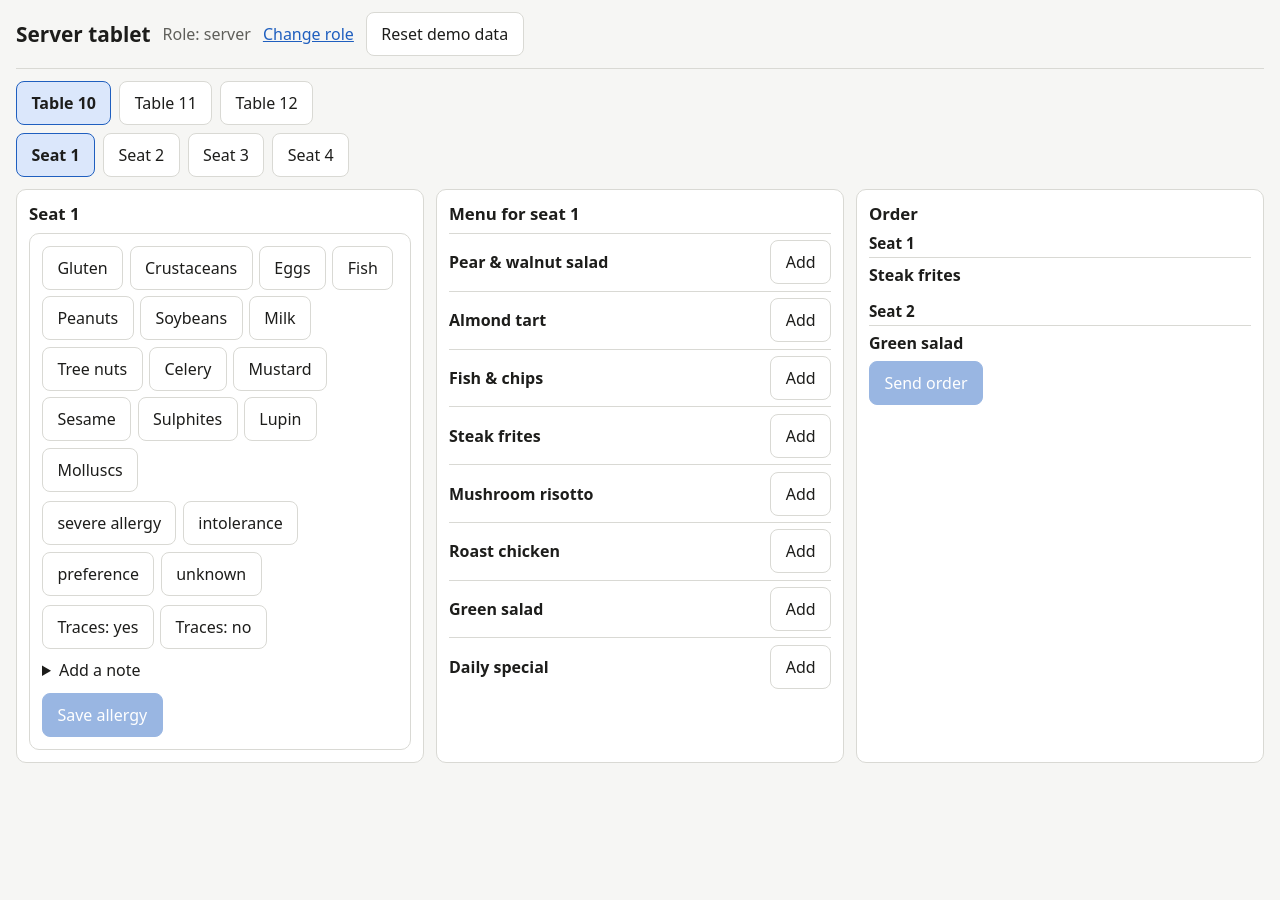
Test case: US1 allergy panel › REQ-01: "Save allergy" is disabled until an allergen, a severity and a traces value are chosen
The image size is (1280, 900).
Click the button "Table 12". click: (267, 103)
box: [220,81,313,125]
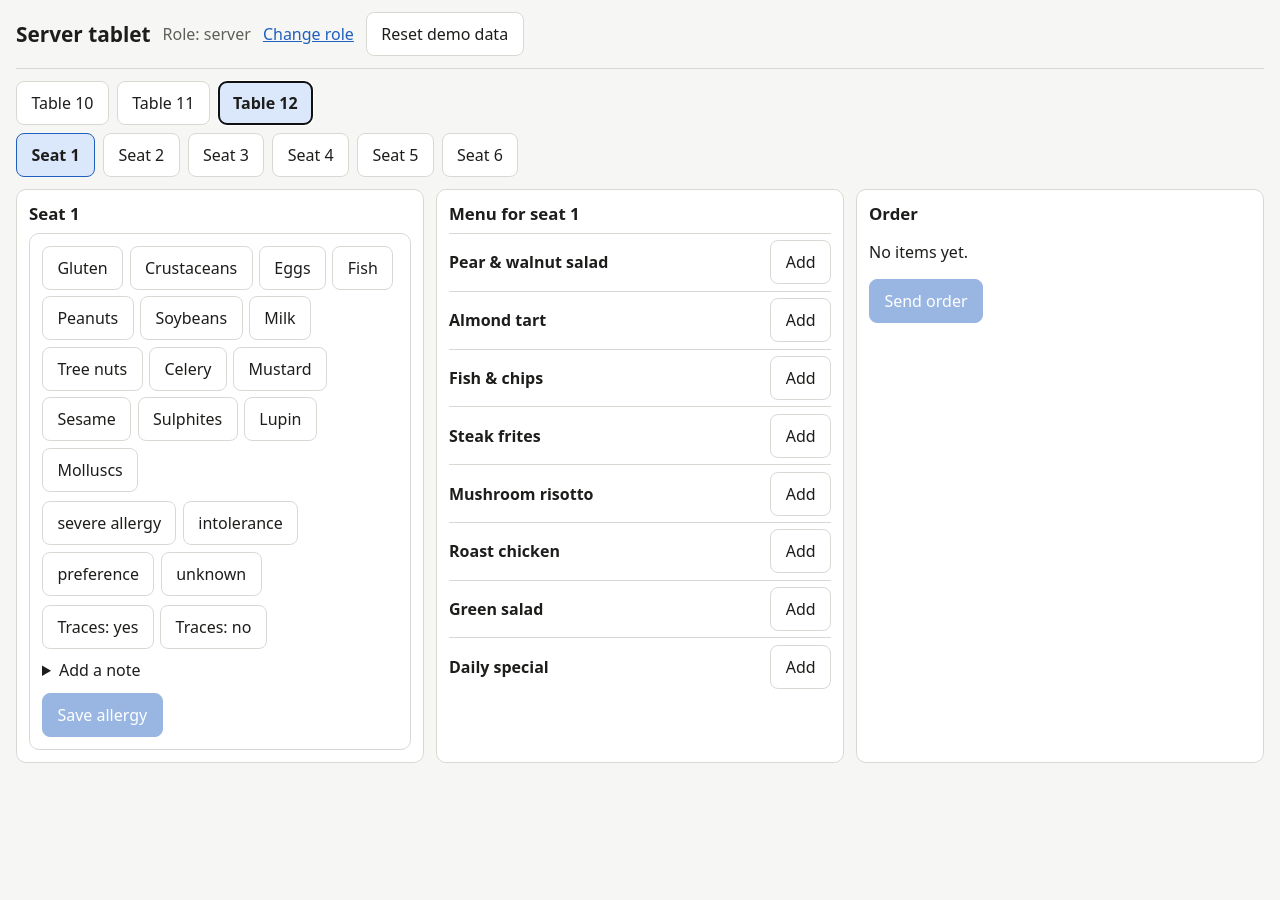
Click the button "Seat 3". click: (226, 155)
box: [188,133,264,177]
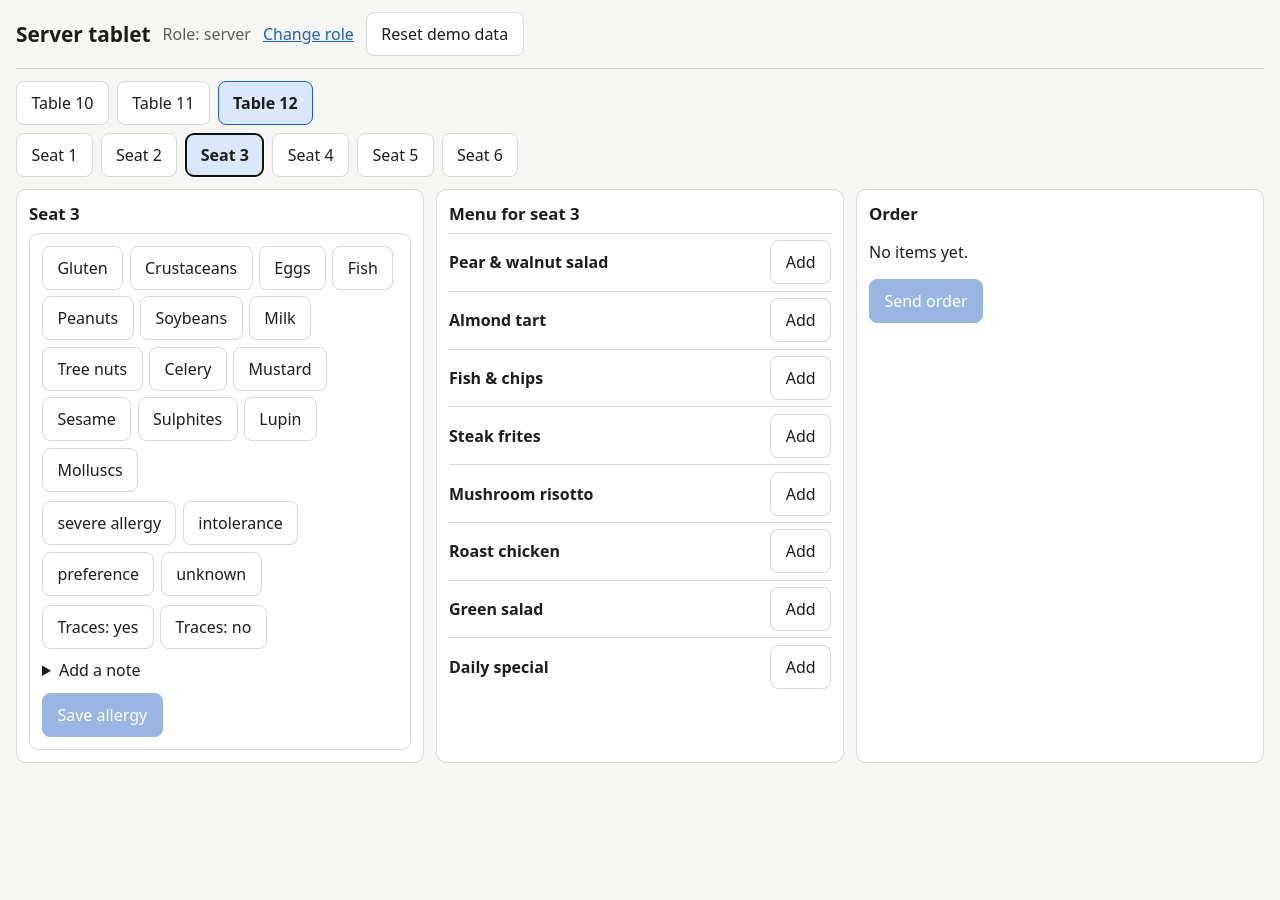
Expected: the button "Save allergy" is disabled, [42,693,163,737]
Click the button "Tree nuts". click: (92, 369)
box: [42,347,143,391]
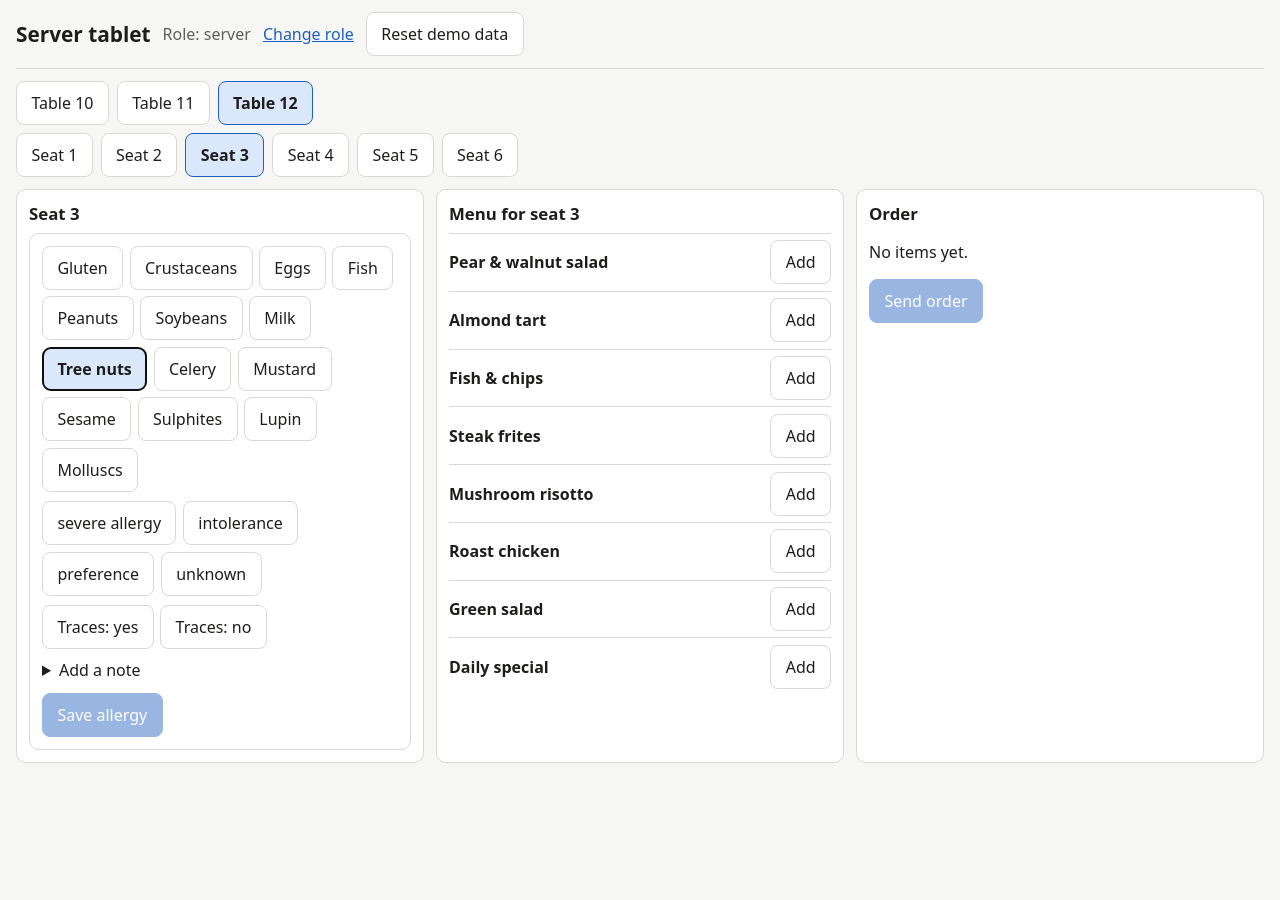
Expected: the button "Save allergy" is disabled, [42,693,163,737]
Click the button "severe allergy". click: (109, 523)
box: [42,501,176,545]
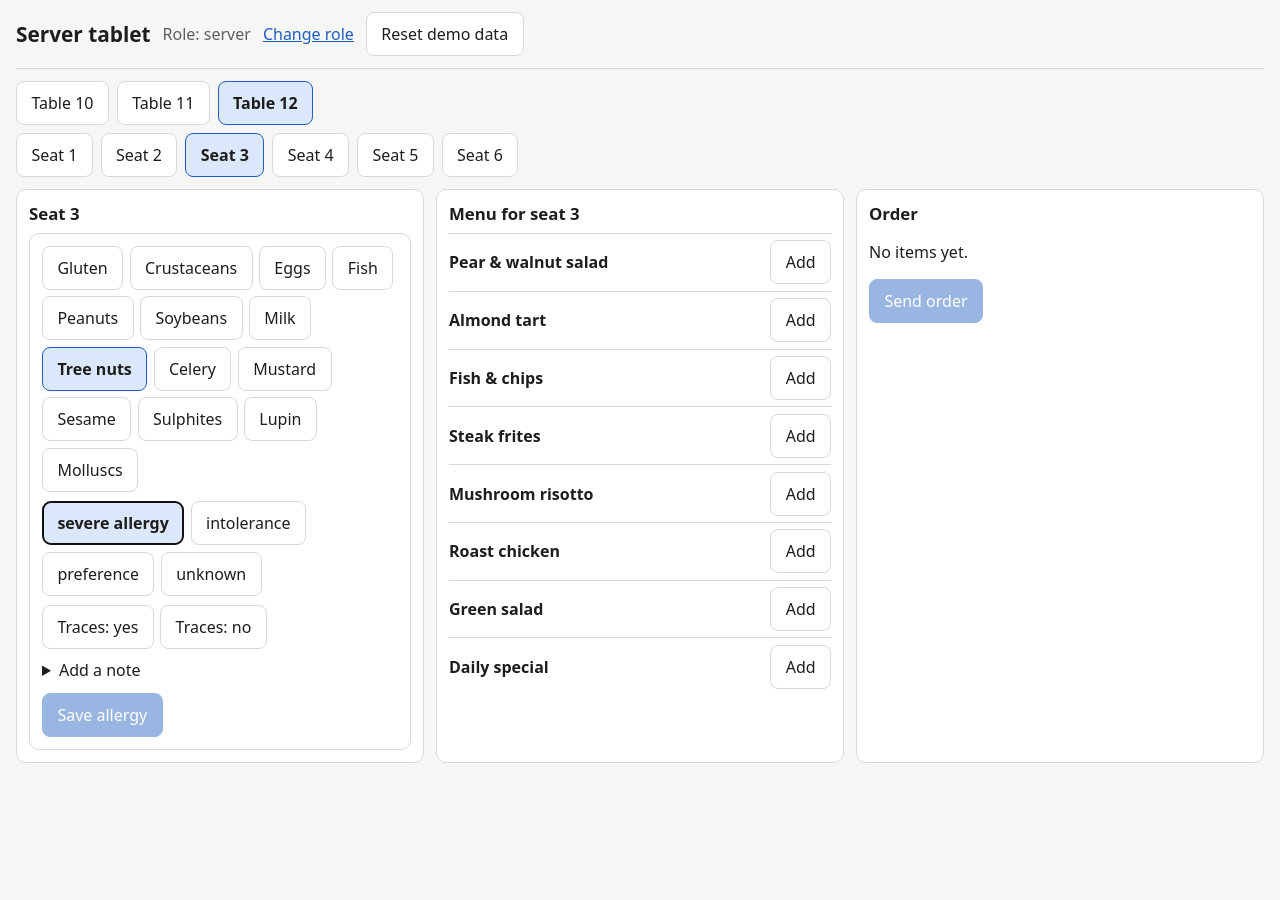
Expected: the button "Save allergy" is disabled, [42,693,163,737]
Click the button "Traces: yes". click: (98, 627)
box: [42,605,154,649]
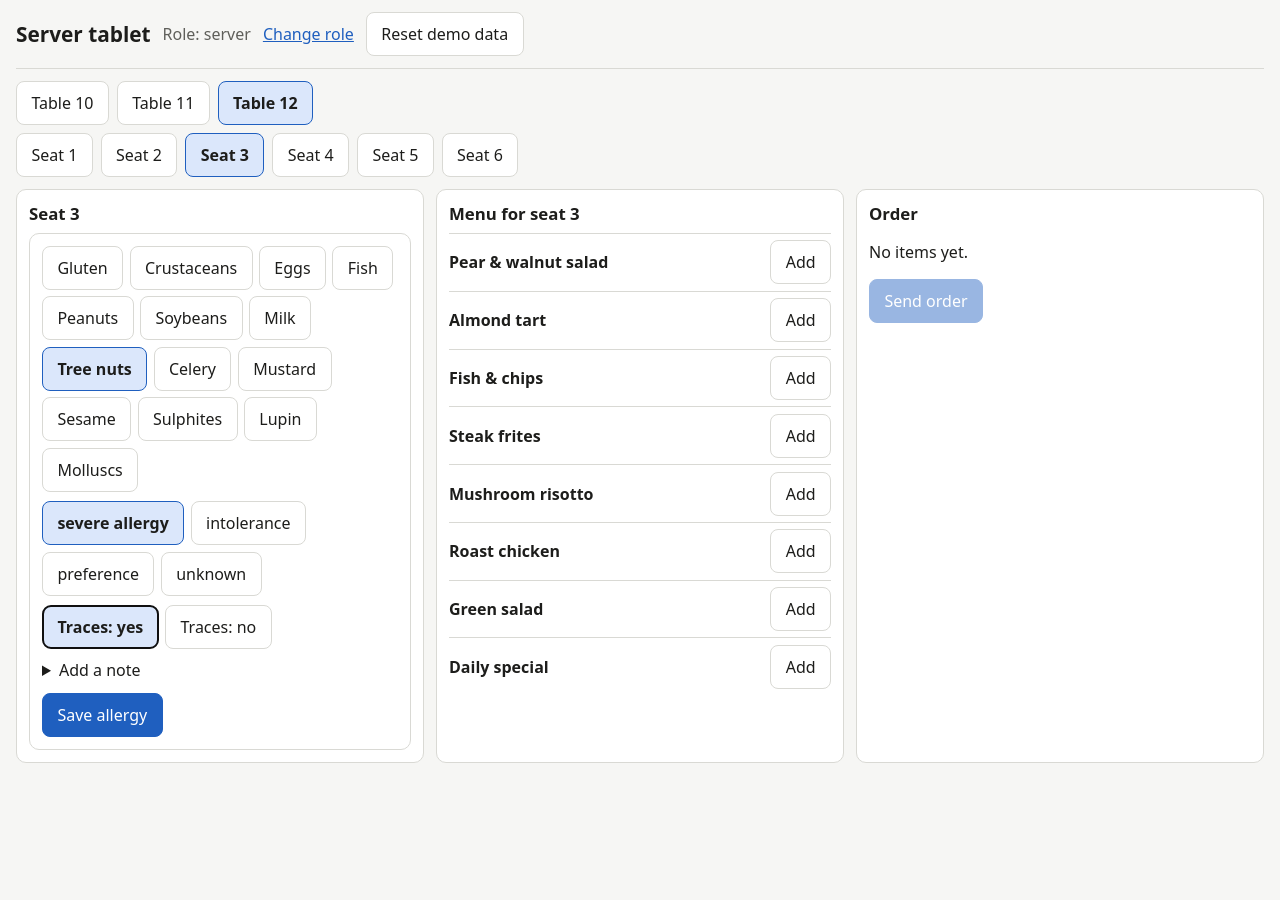
Now the button "Save allergy" is enabled, box [42,693,163,737]
